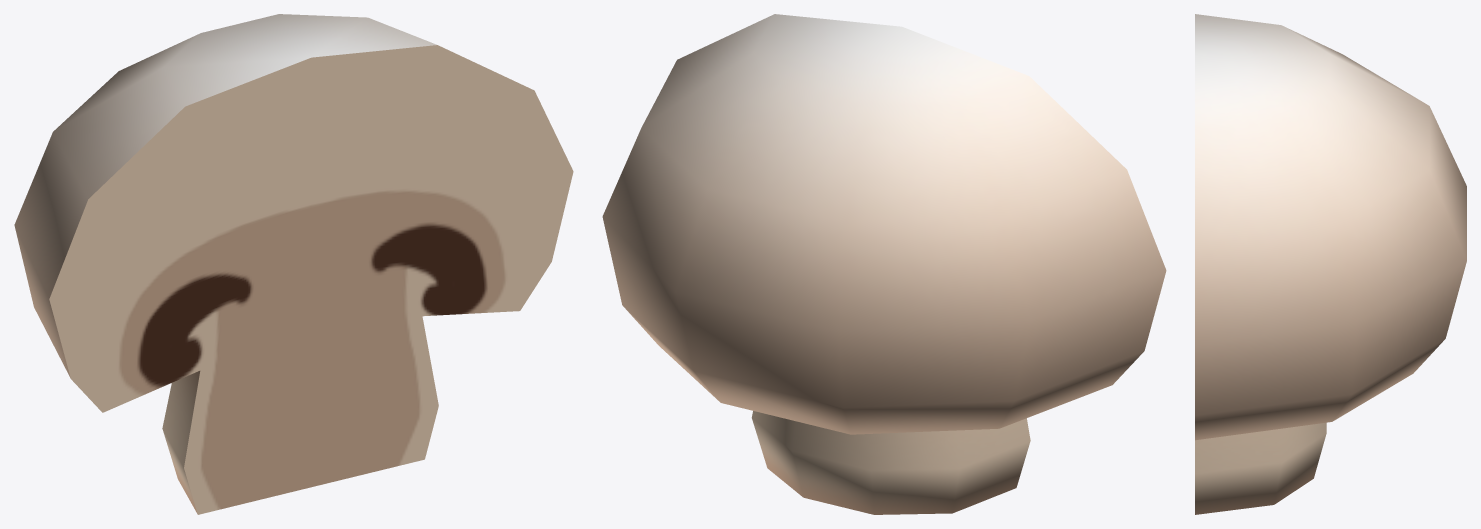
File: Mushroom_White_Half.fbx
3 views of the same model, side by side, from view 1: azimuth 30°, elevation 25°; view 2: azimuth 150°, elevation 25°; view 3: azimuth 270°, elevation 25° (orthographic). The views are drawn at different scales.
Visible parts, largest first — view 1: Mushroom_White_Half; view 2: Mushroom_White_Half; view 3: Mushroom_White_Half.
Boxes of the visible parts, x1,y1,x2,y2 form: Mushroom_White_Half: [14, 14, 573, 514]; Mushroom_White_Half: [602, 14, 1166, 514]; Mushroom_White_Half: [1195, 14, 1466, 514].
Size of the model in its own units: 34.81 by 27.26 by 16.49.
